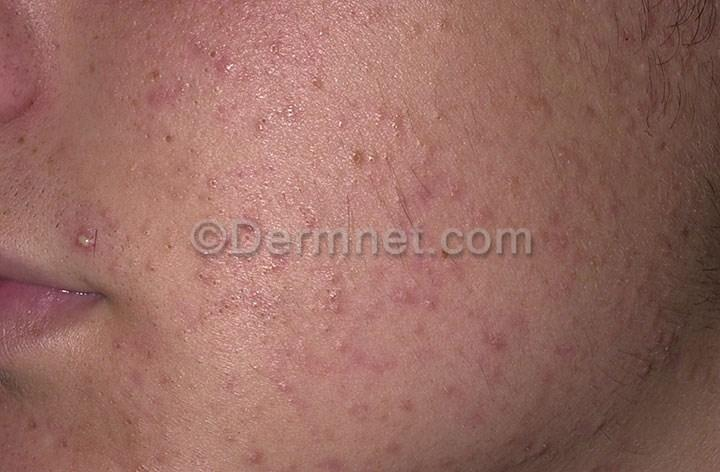Acne: (304, 251, 450, 341), (189, 248, 305, 315), (98, 55, 191, 129), (322, 144, 395, 198), (56, 214, 101, 261), (201, 54, 244, 95), (258, 91, 302, 121)
